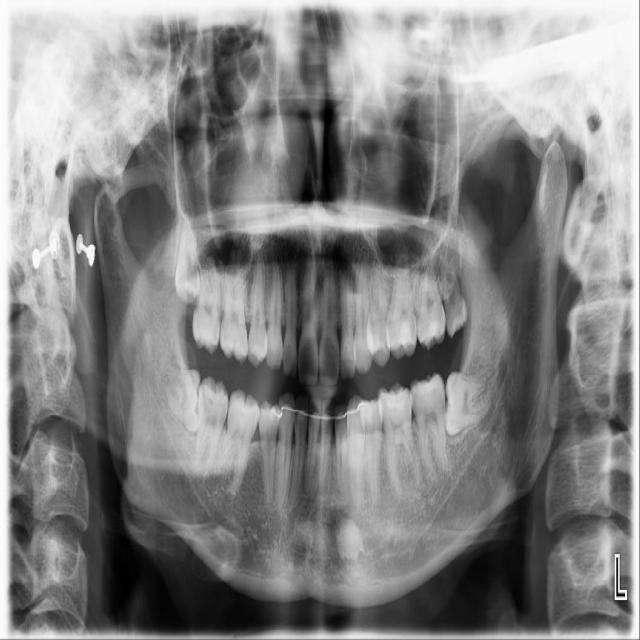3M ESPE Implant: (167, 211, 203, 306)
73: (588, 568, 594, 582)
BioHorizons Implant: (416, 232, 446, 348)
BioLife Implant: (437, 248, 471, 337)
Biomet 3i Implant: (443, 363, 495, 437)
Blue Sky Bio Implant: (408, 370, 451, 483)
Caries: (192, 254, 220, 354)
Implant: (192, 374, 231, 478)
Keystone Dental Implant: (158, 358, 208, 437)
